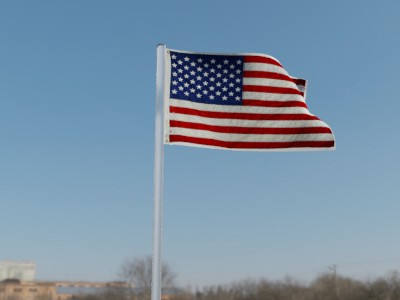America flag: (164, 50, 340, 151)
